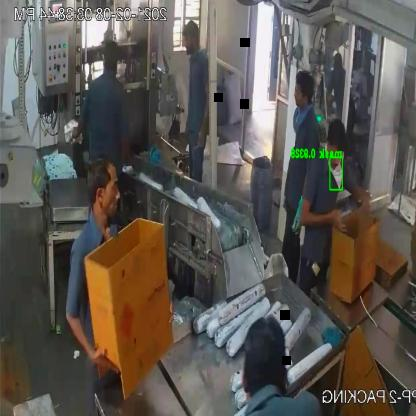no_glove: (63, 290, 118, 372), (297, 196, 347, 238), (343, 178, 370, 238)
